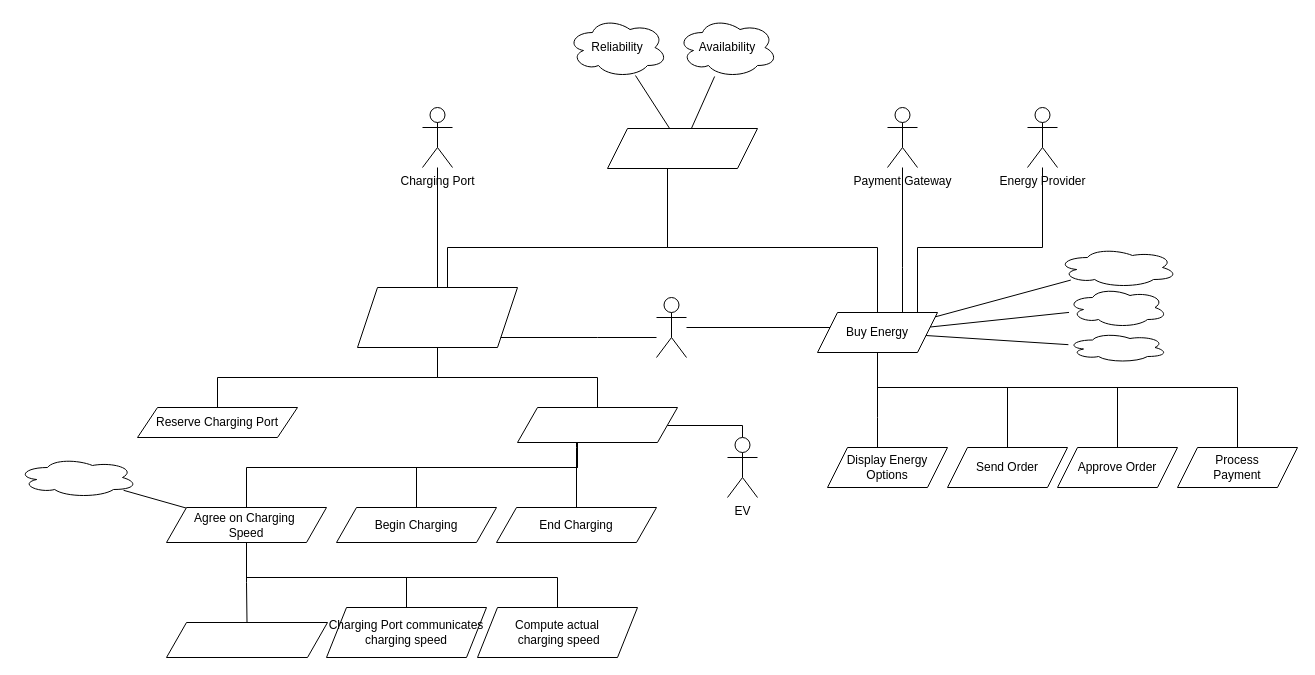
This 1315x675 diagram has some shape labels left out. Here are the shapes that lost their labels. From the top down, the centre of each, then its label:
At pixel 682 148: "Manage Automatic EV Charging Station".
At pixel 1117 267: "Accessibility".
At pixel 437 317: "Manage Charging".
At pixel 671 327: "Driver".
At pixel 1117 307: "Privacy".
At pixel 1117 347: "Securely".
At pixel 597 424: "Charge EV".
At pixel 77 477: "Accurately".
At pixel 247 640: "EV communicates charging speed".
